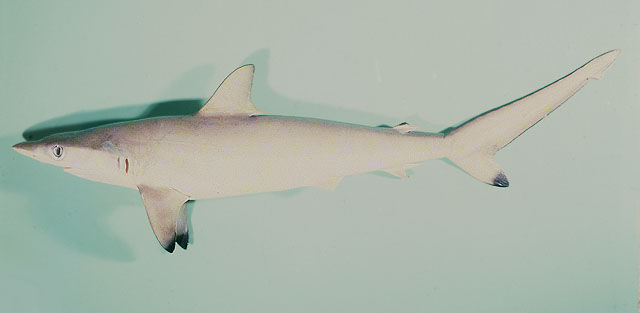fish: (13, 50, 621, 254)
